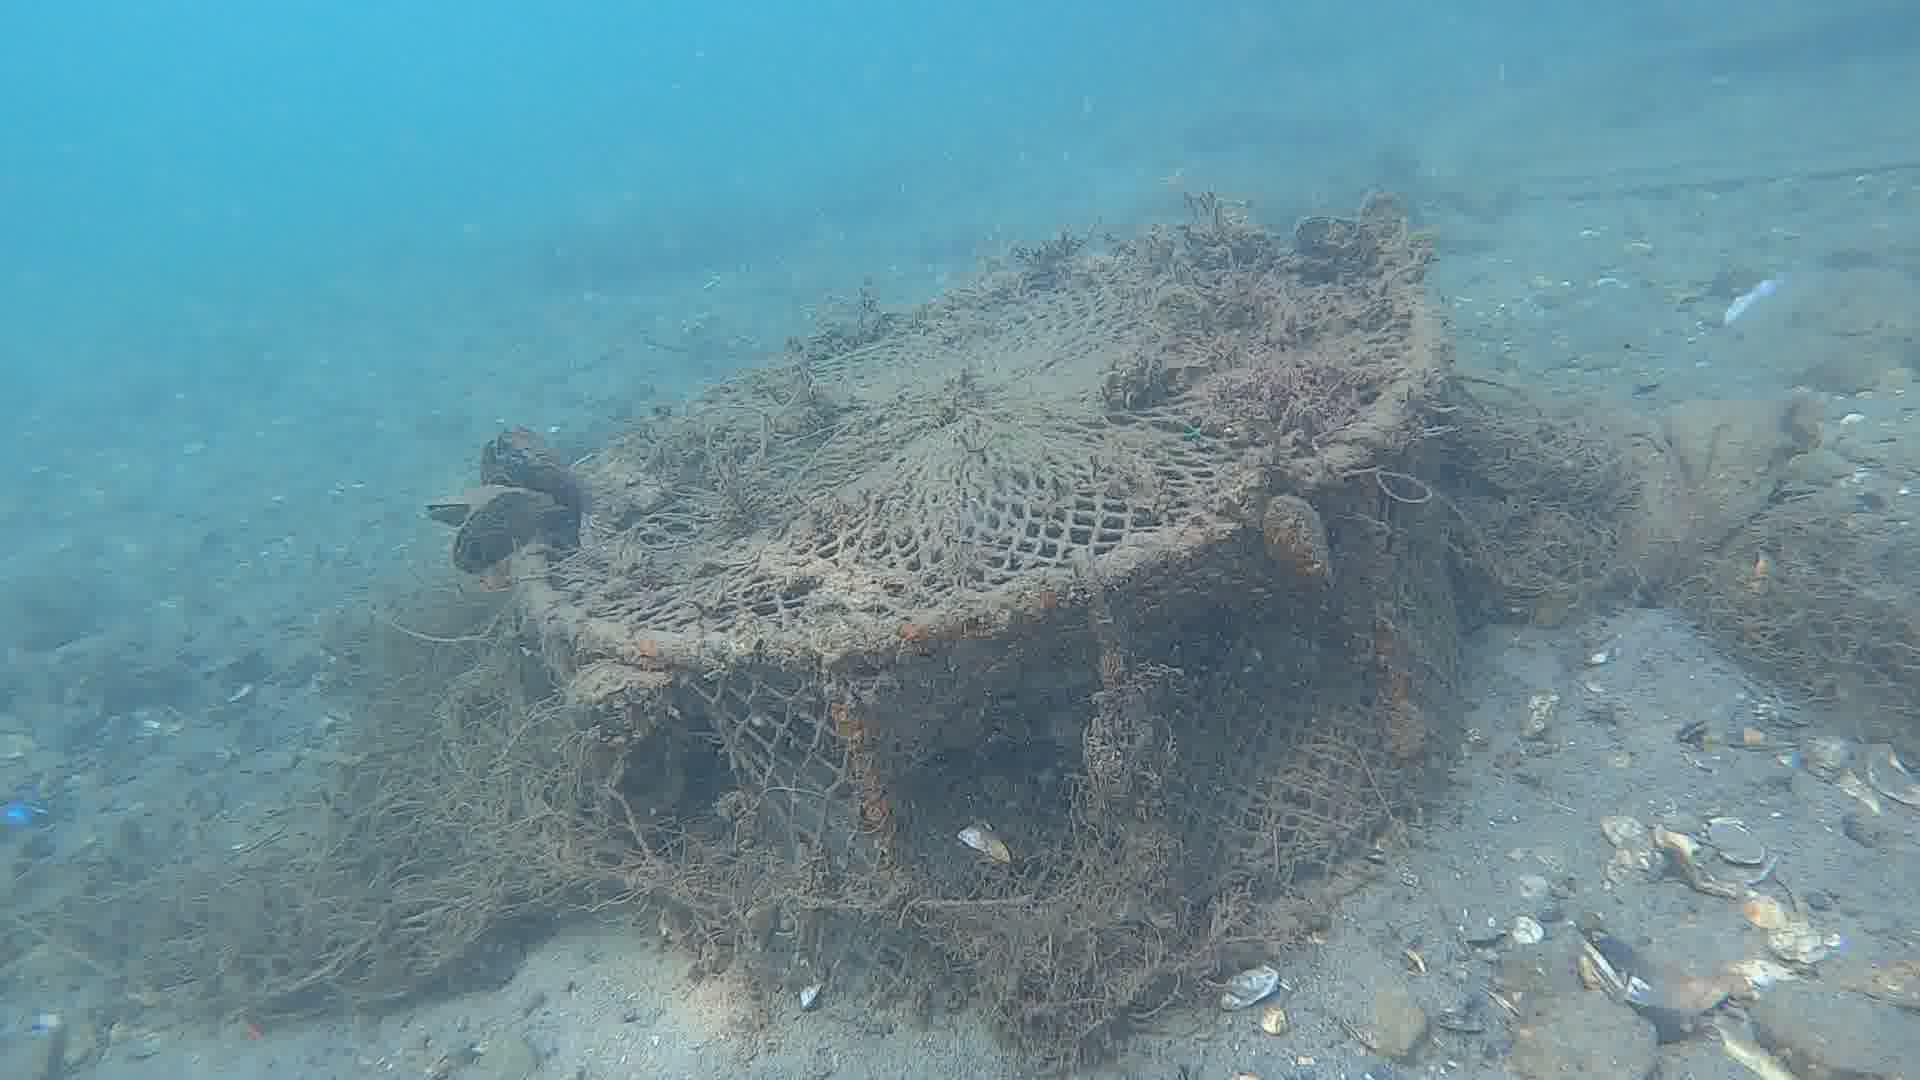circular fish trap: (501, 220, 1469, 1015)
